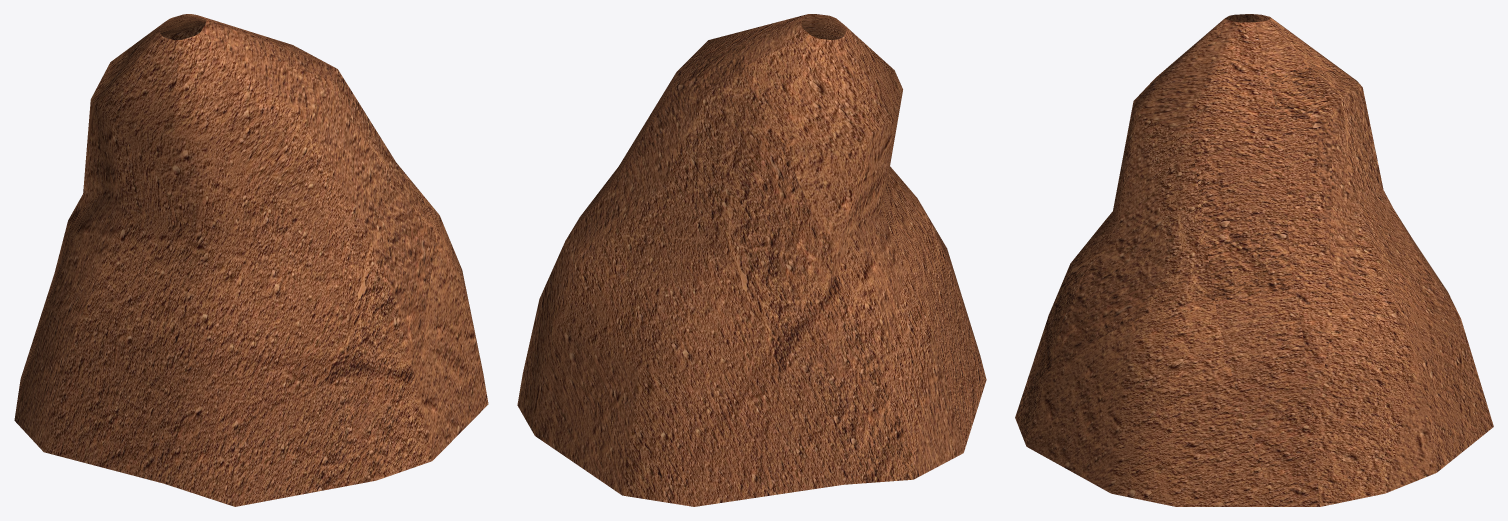
The model's file is AntHill.fbx.
The picture shows the model from 3 angles, left to right: view 1: azimuth 30°, elevation 25°; view 2: azimuth 150°, elevation 25°; view 3: azimuth 270°, elevation 25°; orthographic projection. The views are drawn at different scales.
Parts seen in each view (by area): view 1: AntHill; view 2: AntHill; view 3: AntHill.
Part boxes in pixels (x1,y1,x2,y2): AntHill: (14, 14, 488, 506); AntHill: (517, 14, 986, 506); AntHill: (1015, 14, 1493, 506).
Bounding box in the file's own units: 16.36 × 15.41 × 17.62.
Materials: 1 (1 with a texture image).
